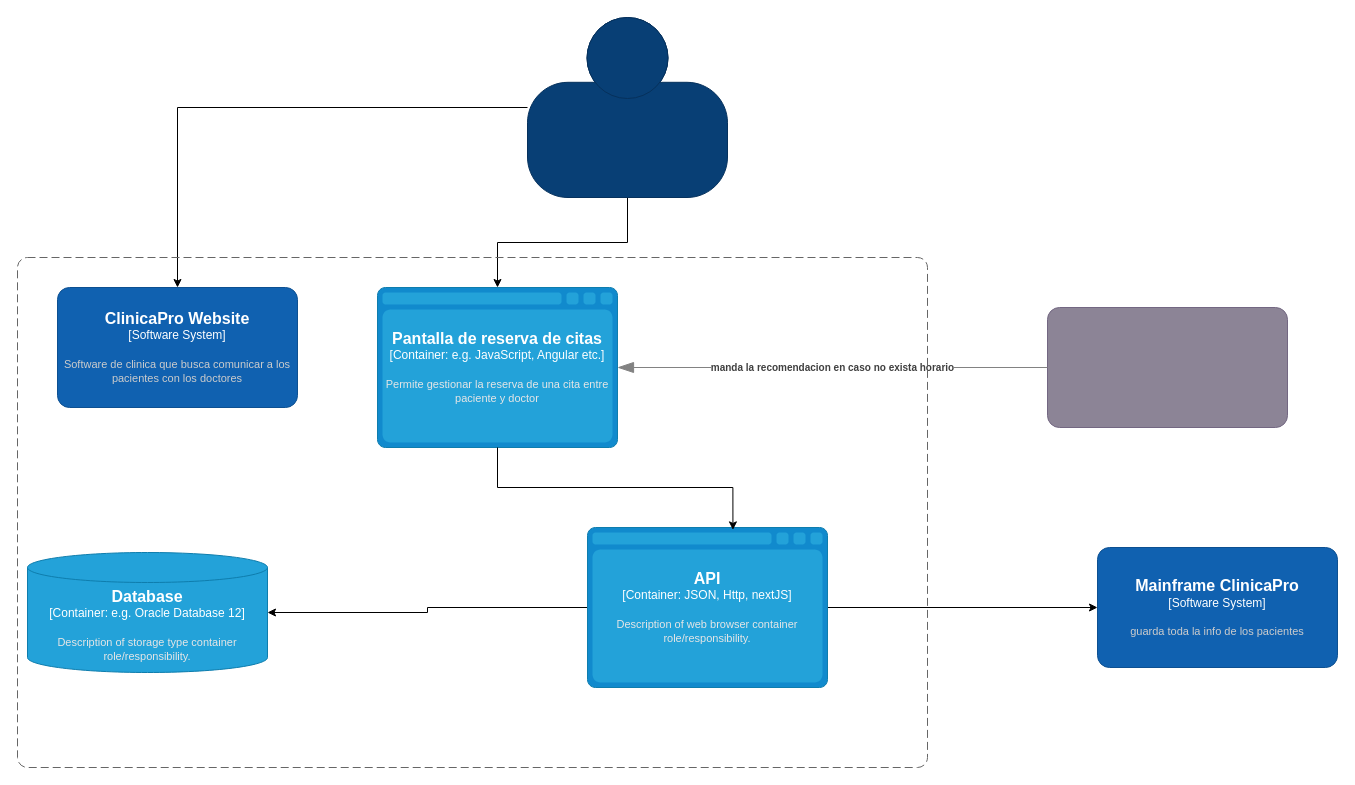
This 1355x785 diagram has some shape labels left out. The box of each missing label's shape, as (x1, y1, x2, y2) in pixels:
Container name [Container]: (16, 256, 928, 768)
libreria:calendario [calendario externo] Calendario de opciones recomendadas: (1046, 306, 1288, 428)
Paciente [Person] Quiere reservar una consulta con un doctor: (526, 16, 728, 198)
